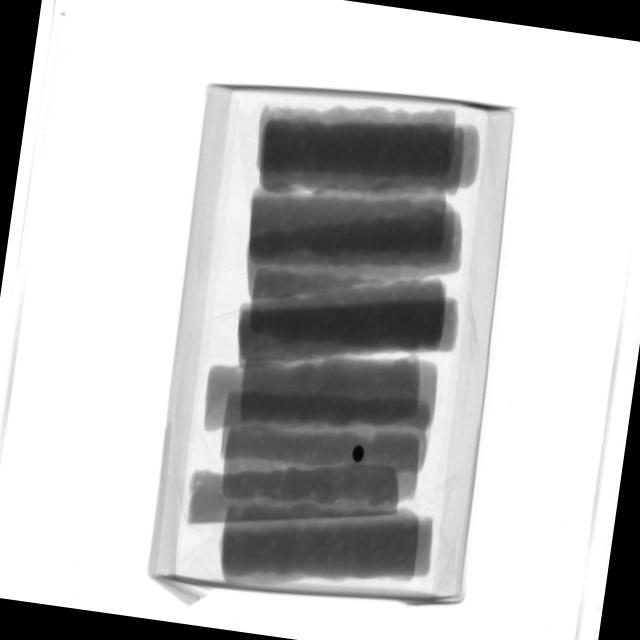ym: (353, 446, 367, 466)
